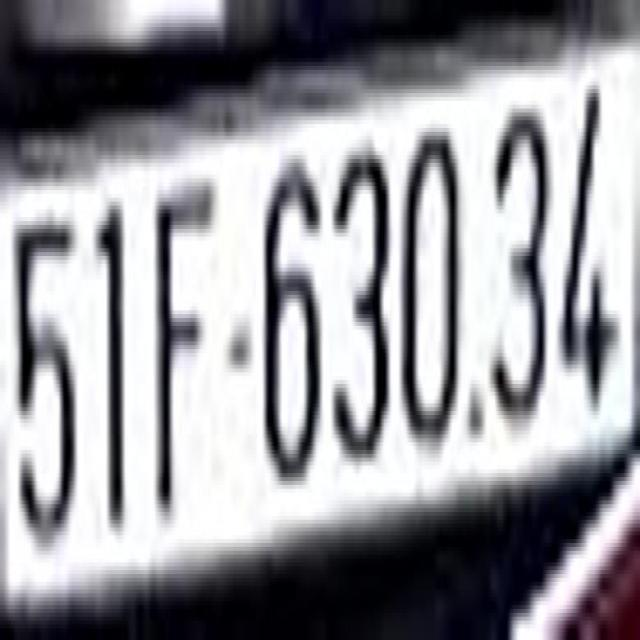0: (400, 128, 458, 446)
1: (94, 194, 130, 547)
3: (332, 143, 392, 470), (489, 93, 546, 427)
4: (557, 78, 620, 408)
5: (16, 198, 78, 551)
6: (262, 143, 320, 481)
F: (150, 175, 215, 512)
